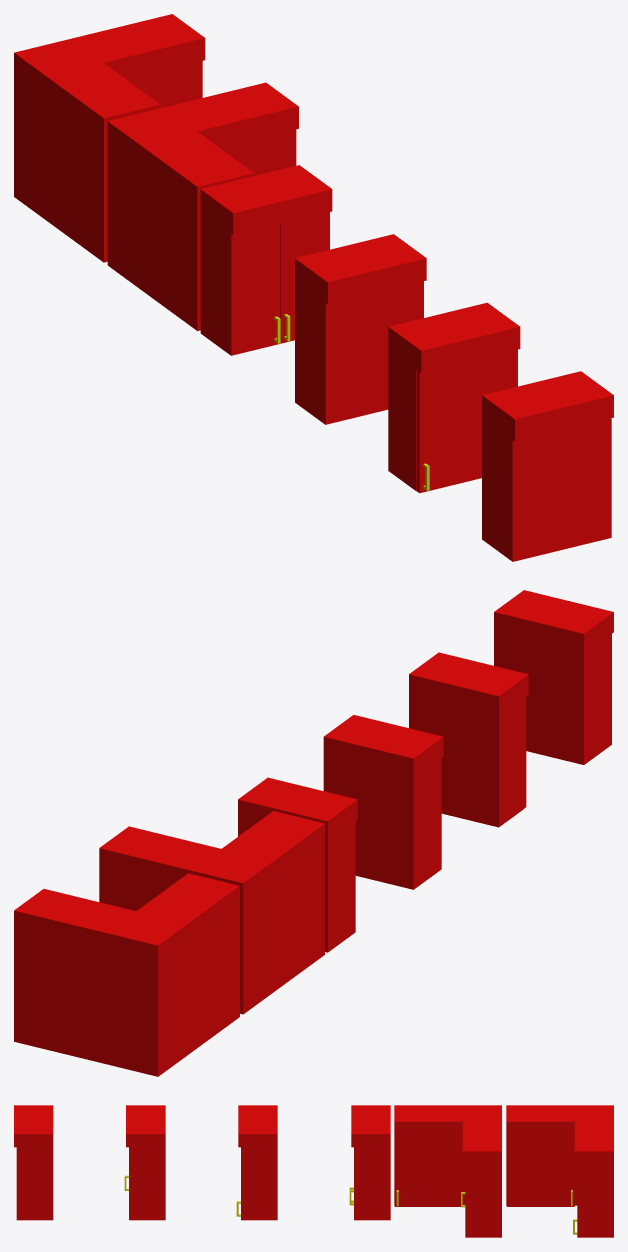
The model's file is cabinets_grp.fbx.
The picture shows the model from 3 angles, top to bottom: view 1: azimuth 30°, elevation 25°; view 2: azimuth 150°, elevation 25°; view 3: azimuth 270°, elevation 25°; orthographic projection. The views are drawn at different scales.
Parts seen in each view (by area): view 1: cabinet_corner_02, cabinet_corner_01, cabinet_straight_01, cabinet_straight_04, cabinet_straight_02, cabinet_straight_03; view 2: cabinet_corner_02, cabinet_corner_01, cabinet_straight_03, cabinet_straight_02, cabinet_straight_01, cabinet_straight_04; view 3: cabinet_corner_02, cabinet_corner_01, cabinet_straight_04, cabinet_straight_01, cabinet_straight_03, cabinet_straight_02.
Part boxes in pixels (x1,y1,x2,y2): cabinet_corner_02: (14,14,205,262); cabinet_corner_01: (107,82,298,330); cabinet_straight_01: (482,371,613,561); cabinet_straight_04: (200,165,332,355); cabinet_straight_02: (388,302,520,493); cabinet_straight_03: (295,234,426,424); cabinet_corner_02: (14,873,239,1076); cabinet_corner_01: (99,811,324,1014); cabinet_straight_03: (323,715,443,889); cabinet_straight_02: (409,652,528,827); cabinet_straight_01: (494,590,613,764); cabinet_straight_04: (238,777,357,952); cabinet_corner_02: (506,1105,613,1237); cabinet_corner_01: (394,1105,501,1237); cabinet_straight_04: (349,1105,390,1220); cabinet_straight_01: (14,1105,53,1220); cabinet_straight_03: (236,1105,277,1220); cabinet_straight_02: (124,1105,165,1220).
Bounding box in the file's own units: 97.71 × 85 × 535.
